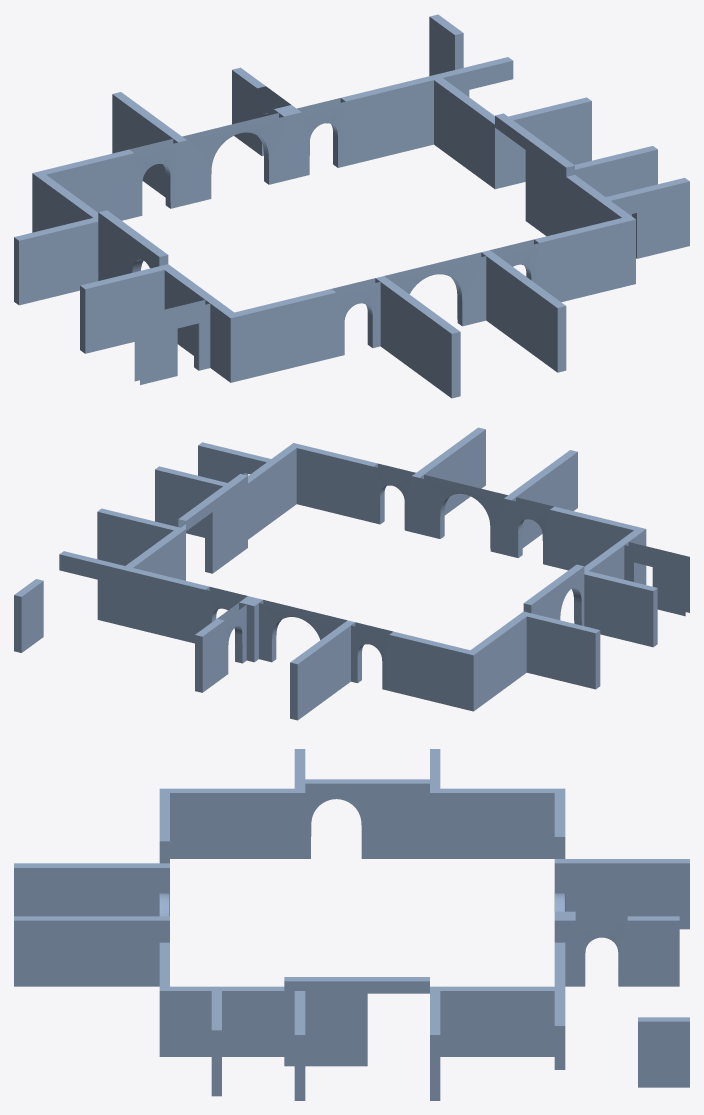
The model's file is Floor02_Innerwalls.fbx.
3 renders of one model, top to bottom at view 1: azimuth 30°, elevation 25°; view 2: azimuth 150°, elevation 25°; view 3: azimuth 270°, elevation 25°, orthographic. The views are drawn at different scales.
Visible parts, largest first — view 1: walls15, walls18, walls22, walls16, walls13, wall_llong15, wall_llong5, walls23, Fireplace:Fireplace:Fireplace:Fireplace:Window8, polySurface1110, wall_llong8, wall_llong19 (+21 smaller); view 2: walls18, walls32, walls22, wall_llong15, wall_llong5, walls24, walls35, walls15, polySurface1109, pCube77, walls13, walls16 (+20 smaller); view 3: walls16, walls12, walls35, walls23, walls13, walls24, walls17, pCube77, walls76, walls89, walls70, entryHall16 (+12 smaller).
Part boxes in pixels (x1,y1,x2,y2): walls15: (234, 289, 336, 380); walls18: (534, 216, 635, 302); walls22: (340, 76, 433, 165); walls16: (481, 250, 566, 372); walls13: (375, 276, 460, 398); wall_llong15: (14, 217, 98, 305); wall_llong5: (80, 264, 172, 353); walls23: (434, 78, 503, 189); Fireplace:Fireplace:Fireplace:Fireplace:Window8: (134, 300, 210, 384); polySurface1110: (182, 113, 292, 204); wall_llong8: (503, 97, 591, 186); wall_llong19: (606, 178, 689, 258); walls18: (289, 443, 377, 522); walls32: (389, 631, 469, 709); walls22: (128, 568, 209, 643); wall_llong15: (519, 611, 600, 689); wall_llong5: (584, 570, 657, 647); walls24: (290, 620, 355, 720); walls35: (466, 611, 530, 711); walls15: (550, 506, 638, 570); polySurface1109: (419, 475, 511, 555); pCube77: (205, 474, 247, 573); walls13: (504, 450, 577, 556); walls16: (411, 427, 485, 533); walls16: (14, 916, 169, 986); walls12: (159, 788, 305, 858); walls35: (430, 788, 565, 858); walls23: (430, 986, 554, 1056); walls13: (14, 863, 169, 916); walls24: (554, 859, 689, 929); walls17: (170, 986, 284, 1056); pCube77: (284, 977, 367, 1066); walls76: (367, 779, 429, 858); walls89: (627, 916, 679, 986); walls70: (638, 1017, 689, 1087); entryHall16: (305, 779, 367, 858).
Bounding box in the file's own units: 3250 × 450 × 3250.
